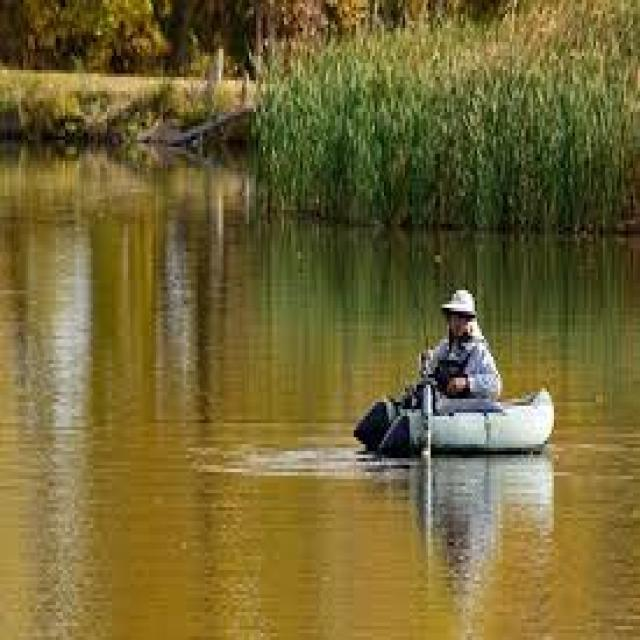ship2: (353, 290, 555, 458)
